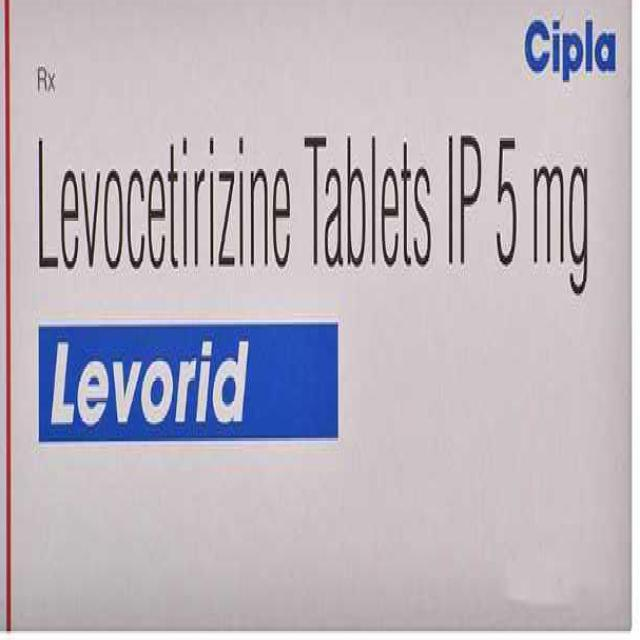drug-name: (45, 332, 252, 431)
